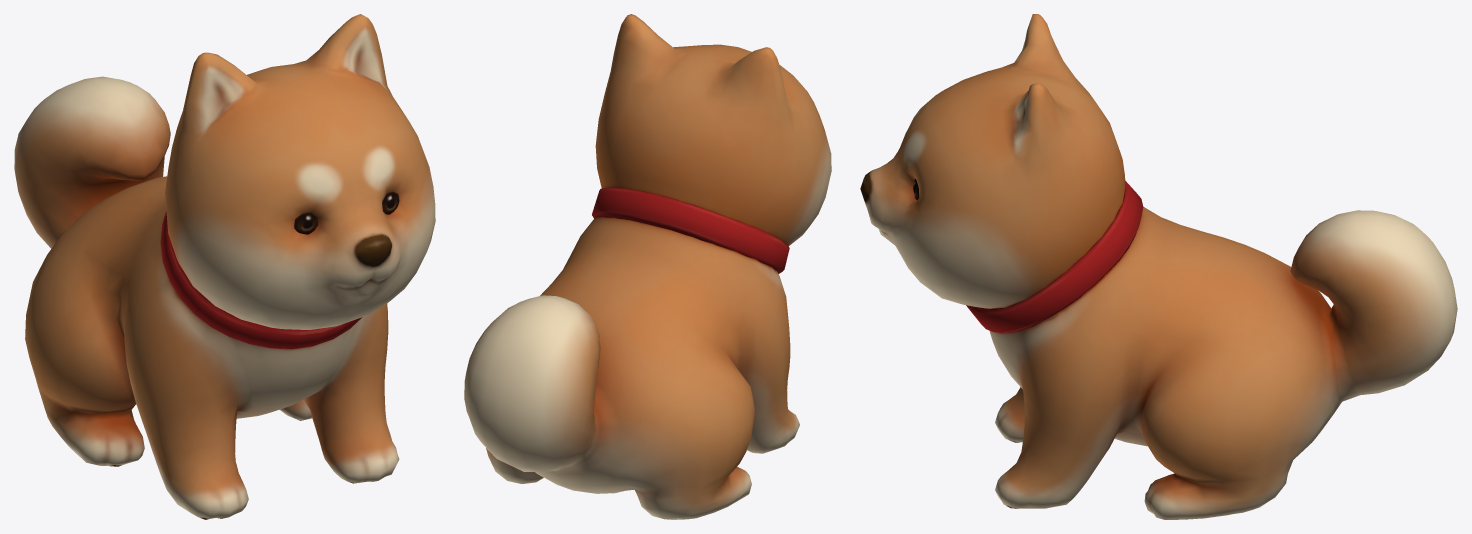
Rendered from perro.obj.
3 views of the same model, side by side, from view 1: azimuth 30°, elevation 25°; view 2: azimuth 150°, elevation 25°; view 3: azimuth 270°, elevation 25° (orthographic). The views are drawn at different scales.
Parts seen in each view (by area): view 1: Box002; view 2: Box002; view 3: Box002.
Part boxes in pixels (x1,y1,x2,y2): Box002: (14,14,435,519); Box002: (464,14,831,519); Box002: (860,14,1457,519).
Bounding box in the file's own units: 0.9209 × 1.38 × 1.77.
1 material, 1 textured.
